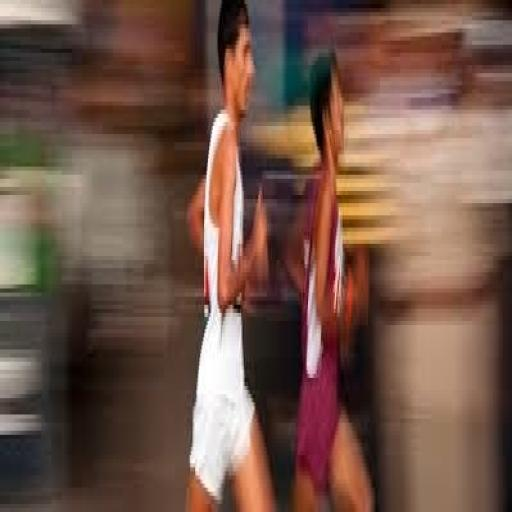running: (264, 45, 378, 508), (184, 0, 280, 508)
